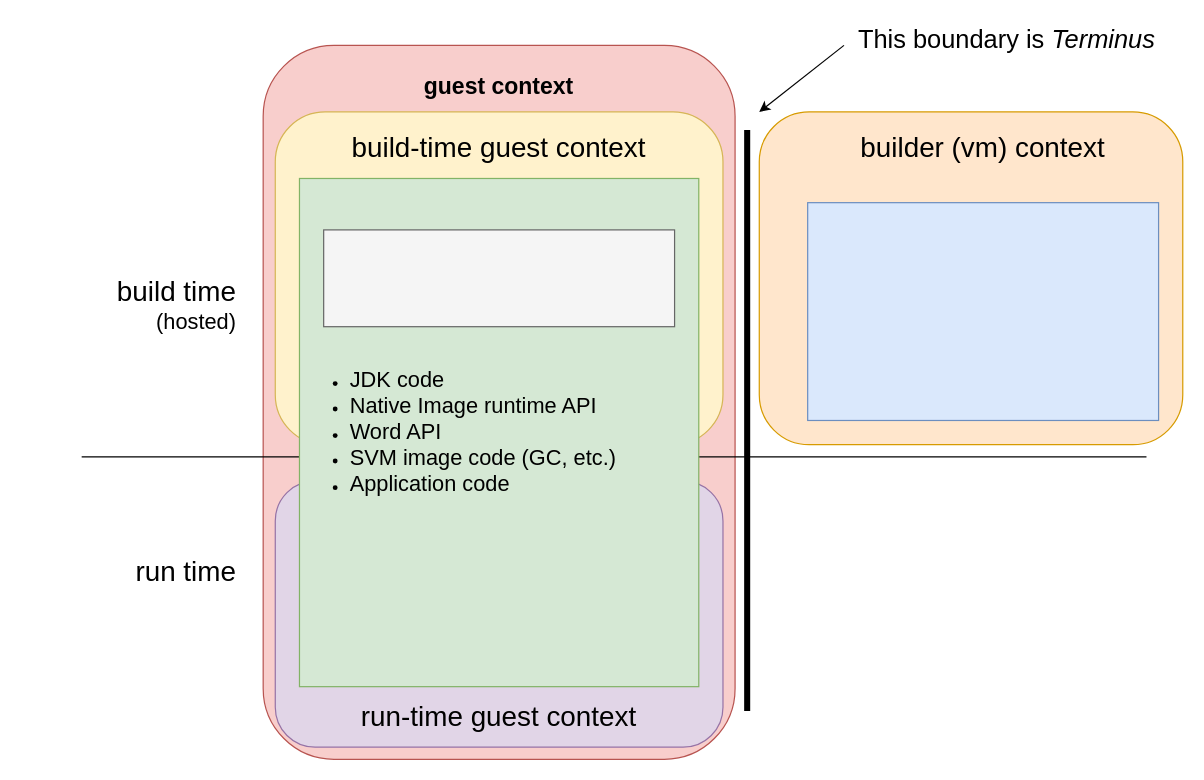
Some shapes in this 1204 by 780 pixel diagram are drawn without their labels. Each missing label, with the centre of its shape:
"Builder code: Graal compiler Analysis Heap snapshotting Object file..." belongs at pixel 982 310.
"Native Image hosted API Native Image hosted helpers Application features" belongs at pixel 498 278.
